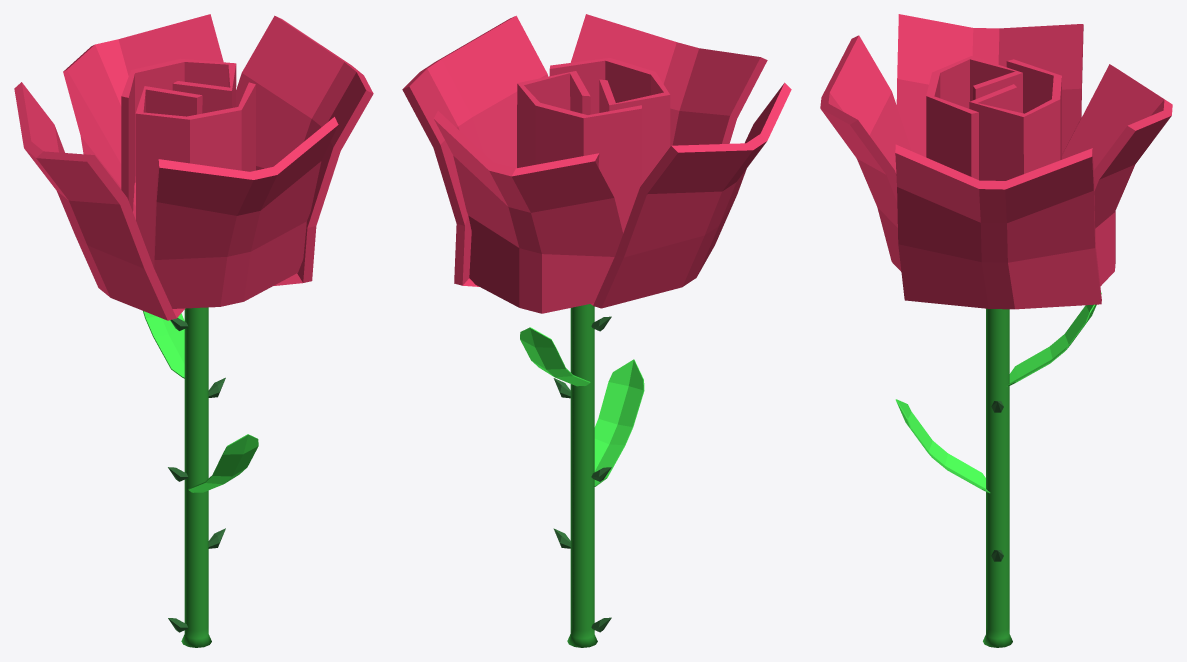
The model's file is Rose-2.fbx.
3 views of the same model, side by side, from view 1: azimuth 30°, elevation 25°; view 2: azimuth 150°, elevation 25°; view 3: azimuth 270°, elevation 25° (orthographic).
Visible parts, largest first — view 1: NurbsPath; view 2: NurbsPath; view 3: NurbsPath.
Boxes of the visible parts, x1,y1,x2,y2 form: NurbsPath: (14,14,373,647); NurbsPath: (402,14,791,647); NurbsPath: (820,14,1172,647).
Bounding box in the file's own units: 2.11 × 2.27 × 3.66.
